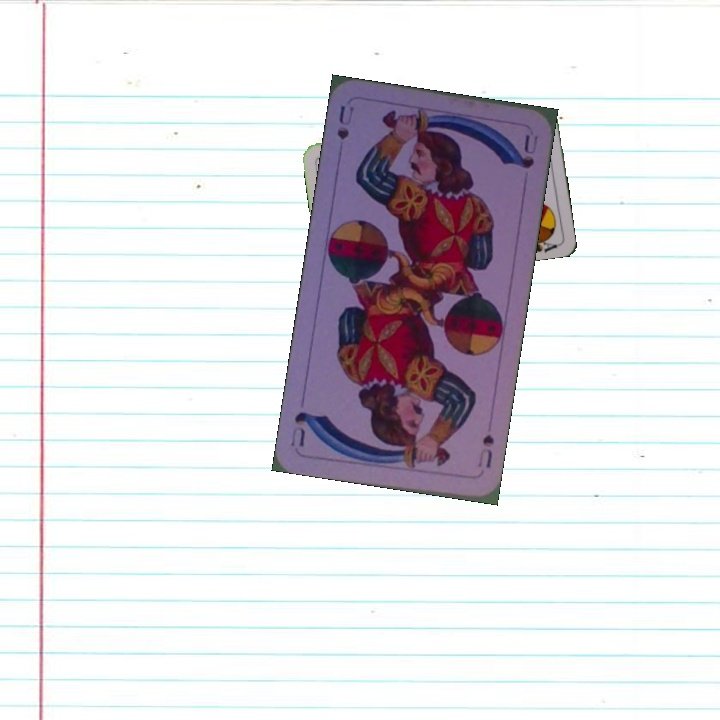SU: (333, 101, 357, 143), (473, 430, 497, 471)
